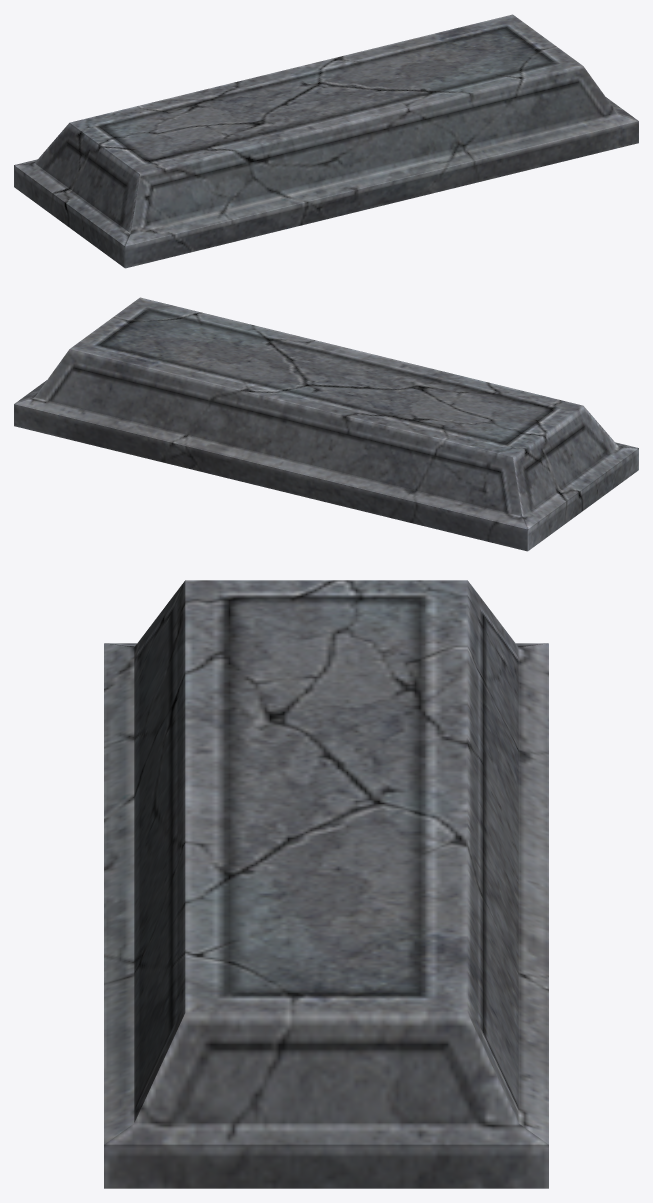
Rendered from GY_guancai002.fbx.
3 views of the same model, one above another, from view 1: azimuth 30°, elevation 25°; view 2: azimuth 150°, elevation 25°; view 3: azimuth 270°, elevation 25° (orthographic). The views are drawn at different scales.
Parts seen in each view (by area): view 1: GY_guancai002; view 2: GY_guancai002; view 3: GY_guancai002.
Part boxes in pixels (x1,y1,x2,y2): GY_guancai002: (14,14,638,268); GY_guancai002: (14,297,638,551); GY_guancai002: (104,580,548,1188).
Bounding box in the file's own units: 242 × 31.81 × 90.67.
